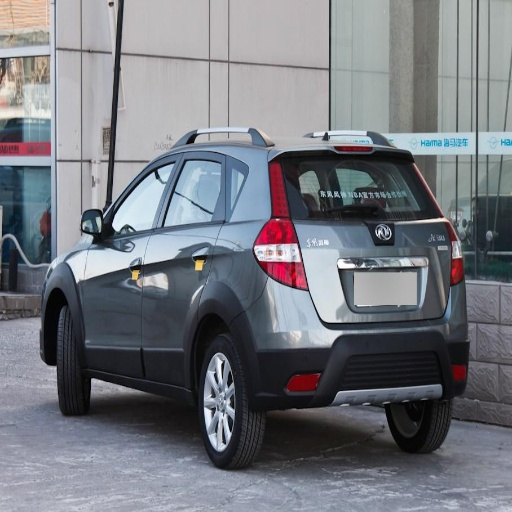back_bumper: (232, 276, 465, 411)
back_glass: (283, 151, 437, 218)
back_left_door: (142, 153, 226, 383)
